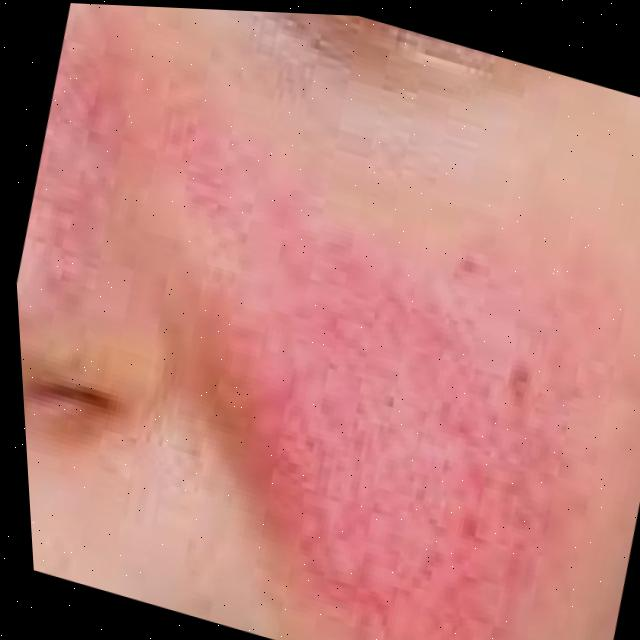Rosacea: (78, 89, 635, 640), (10, 27, 164, 276)
